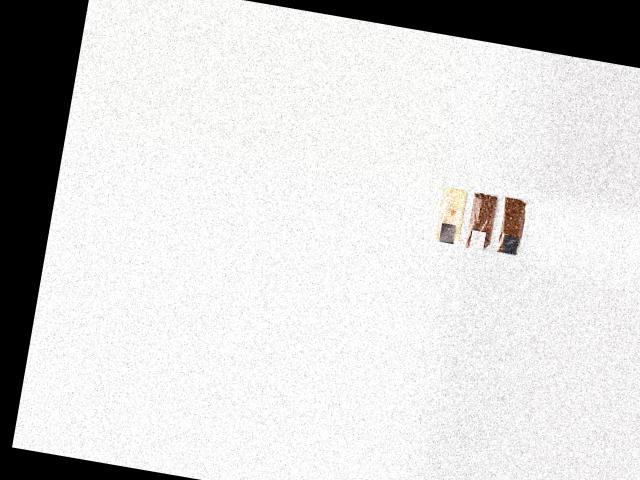chocolate: (493, 190, 538, 256)
